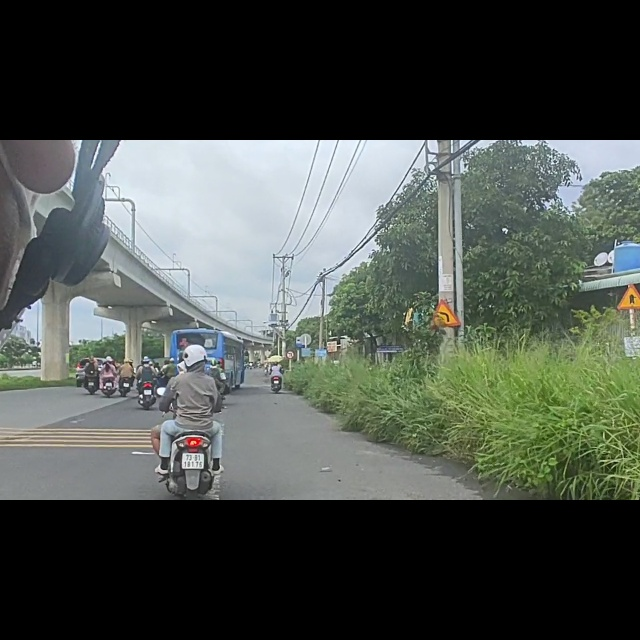bien_nguy_hiem: (429, 282, 462, 335), (617, 255, 640, 300), (295, 347, 305, 370), (286, 373, 295, 391)
